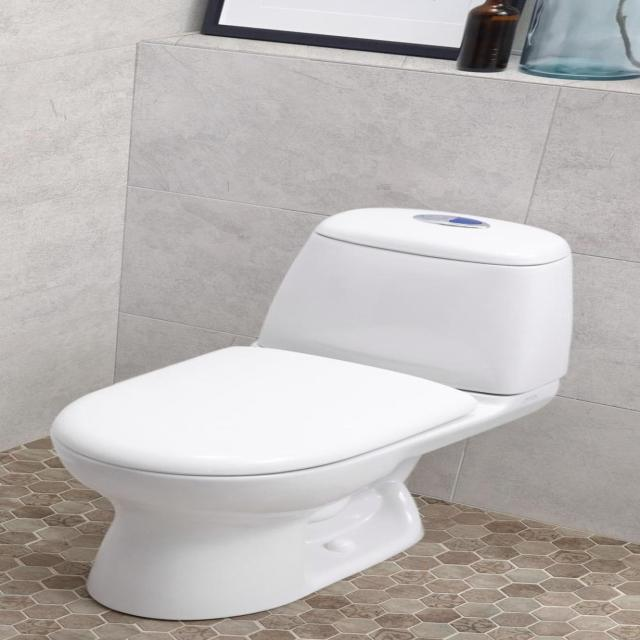toilet: (48, 206, 574, 621)
